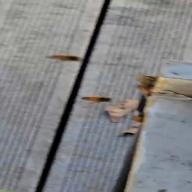Bee: (84, 92, 120, 108), (42, 52, 86, 64)
